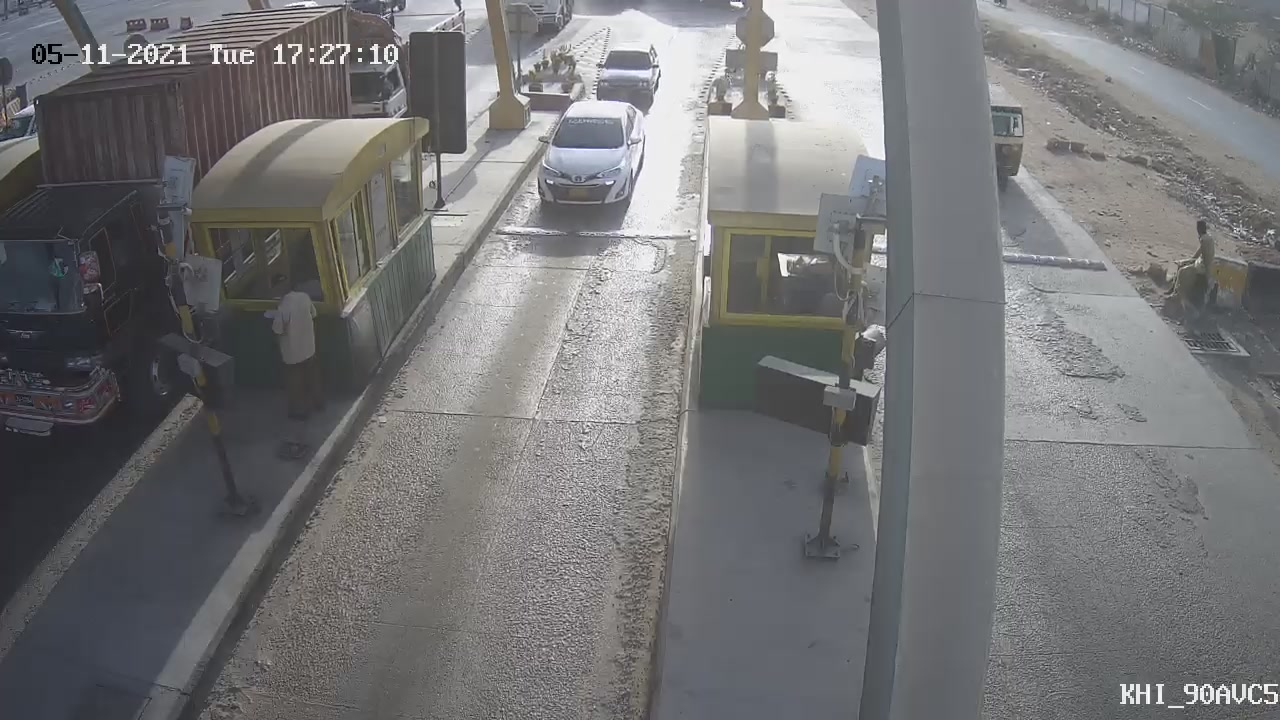F1: (518, 90, 659, 222)
